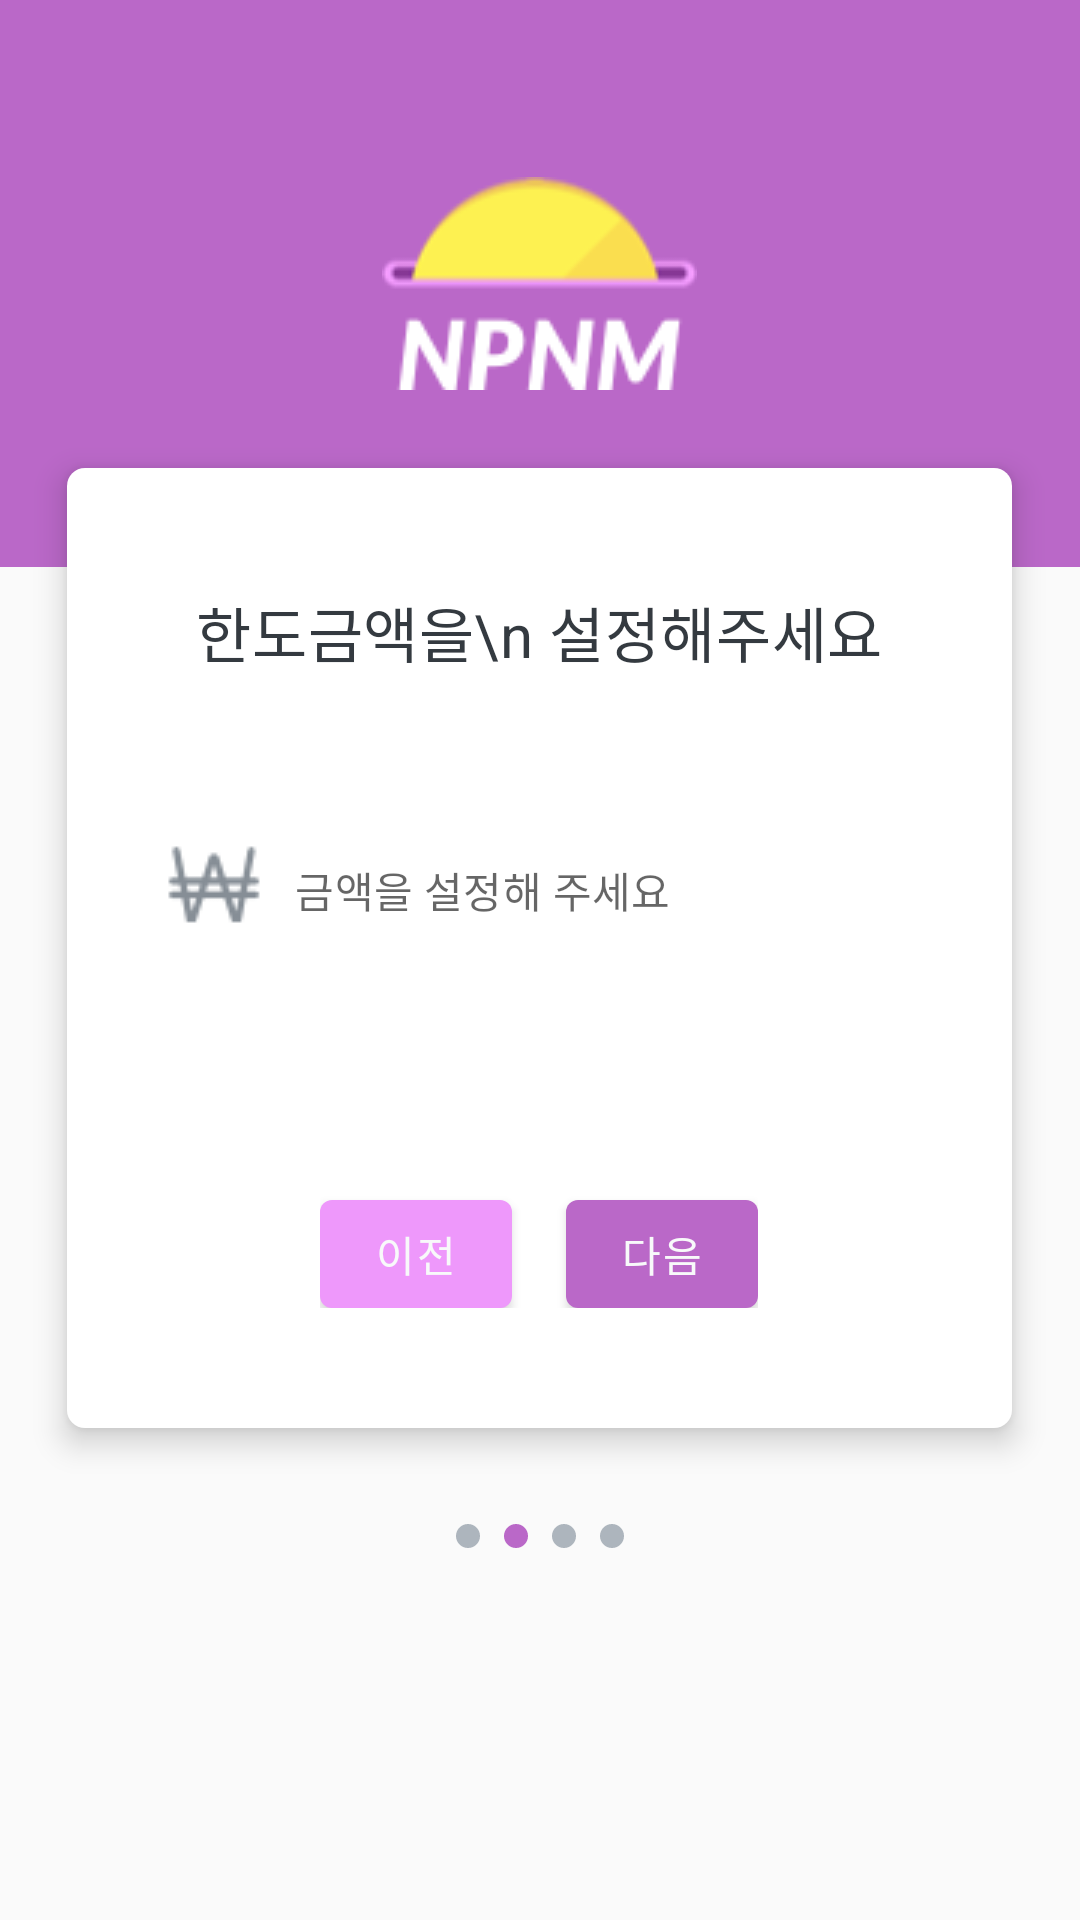

Screen size 1080px x 1920px. Icon name, then its box in pixels as region(x1, y1, x2, y2):
won: region(168, 846, 260, 923)
